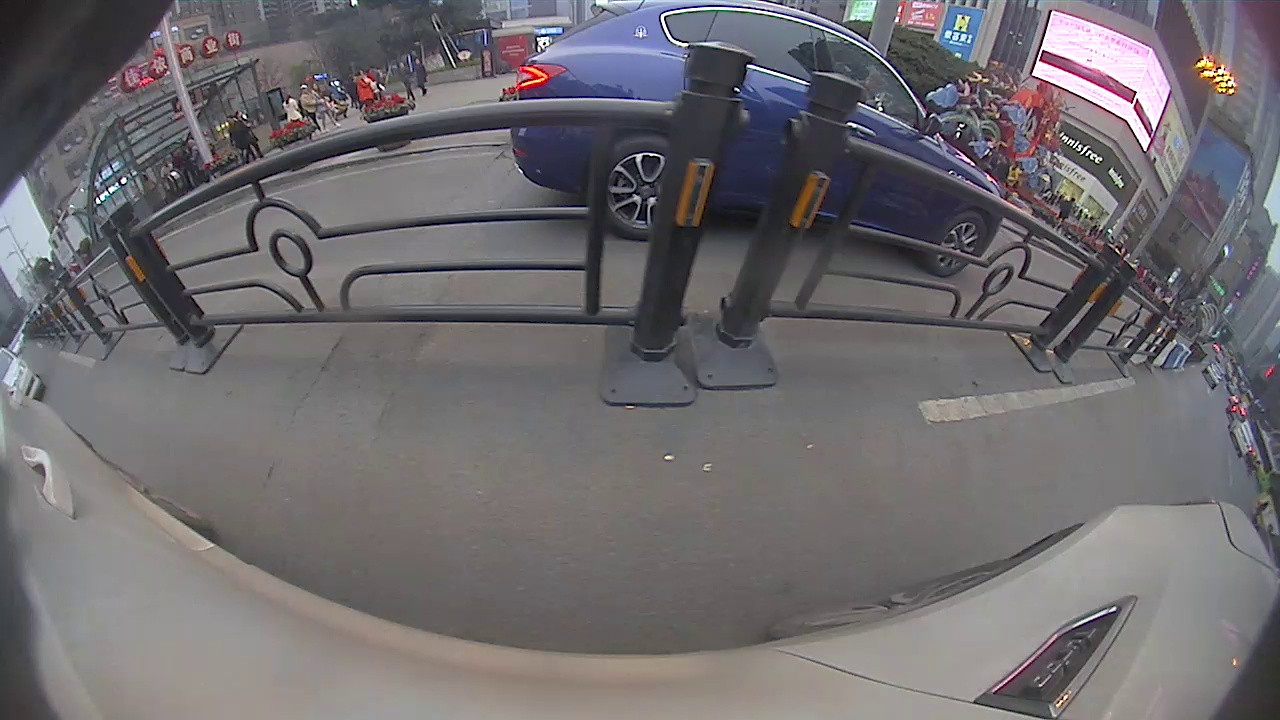car: (509, 6, 1008, 280)
front: (926, 215, 990, 279)
rear: (602, 130, 681, 242)
